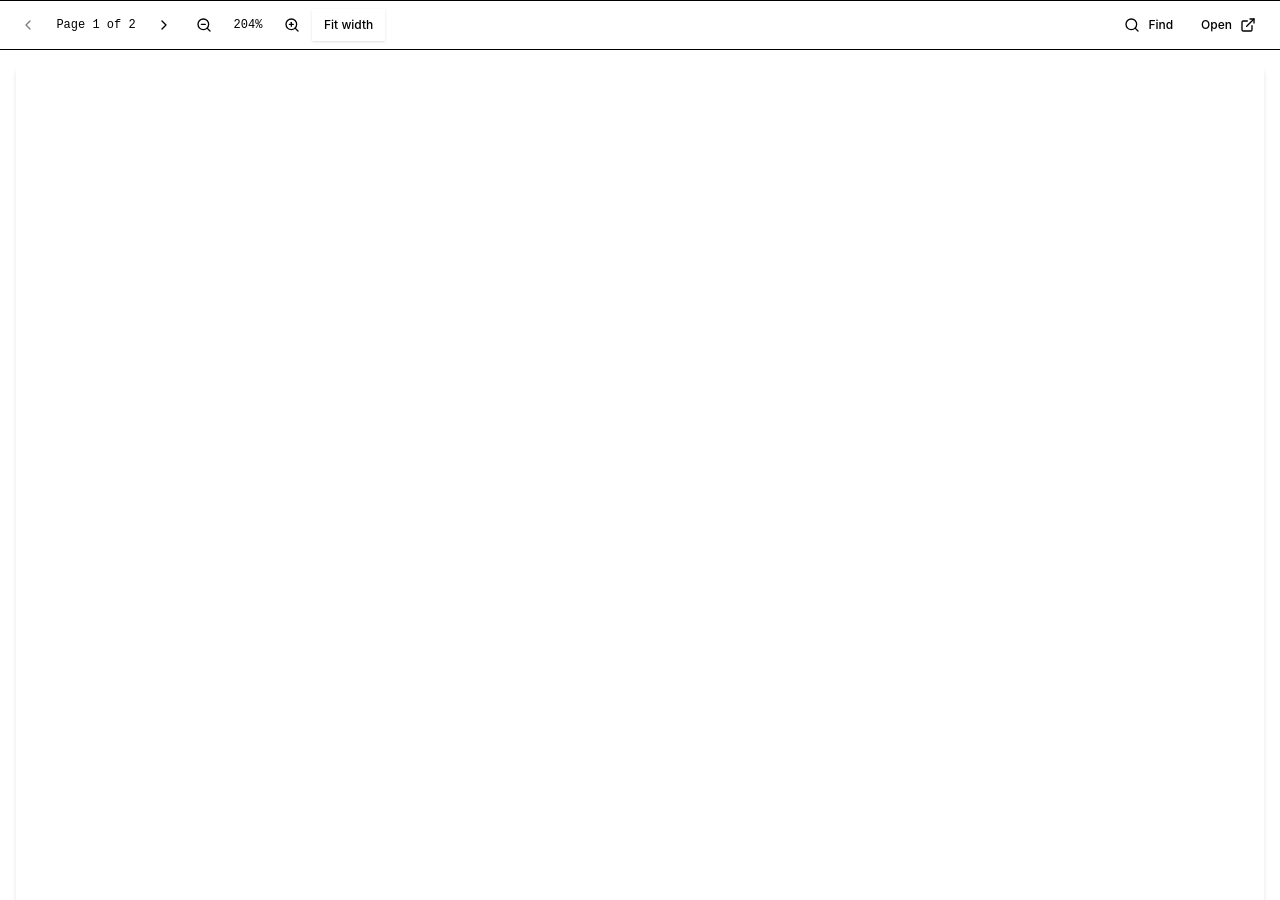
it: finding text › walks the hits and wraps at the end
The width and height of the screenshot is (1280, 900).
Check: the text "Page 1 of 2" is shown, box [56,18,136,32]
Click the button "Find".
click(1149, 25)  # box [1112,9,1185,41]
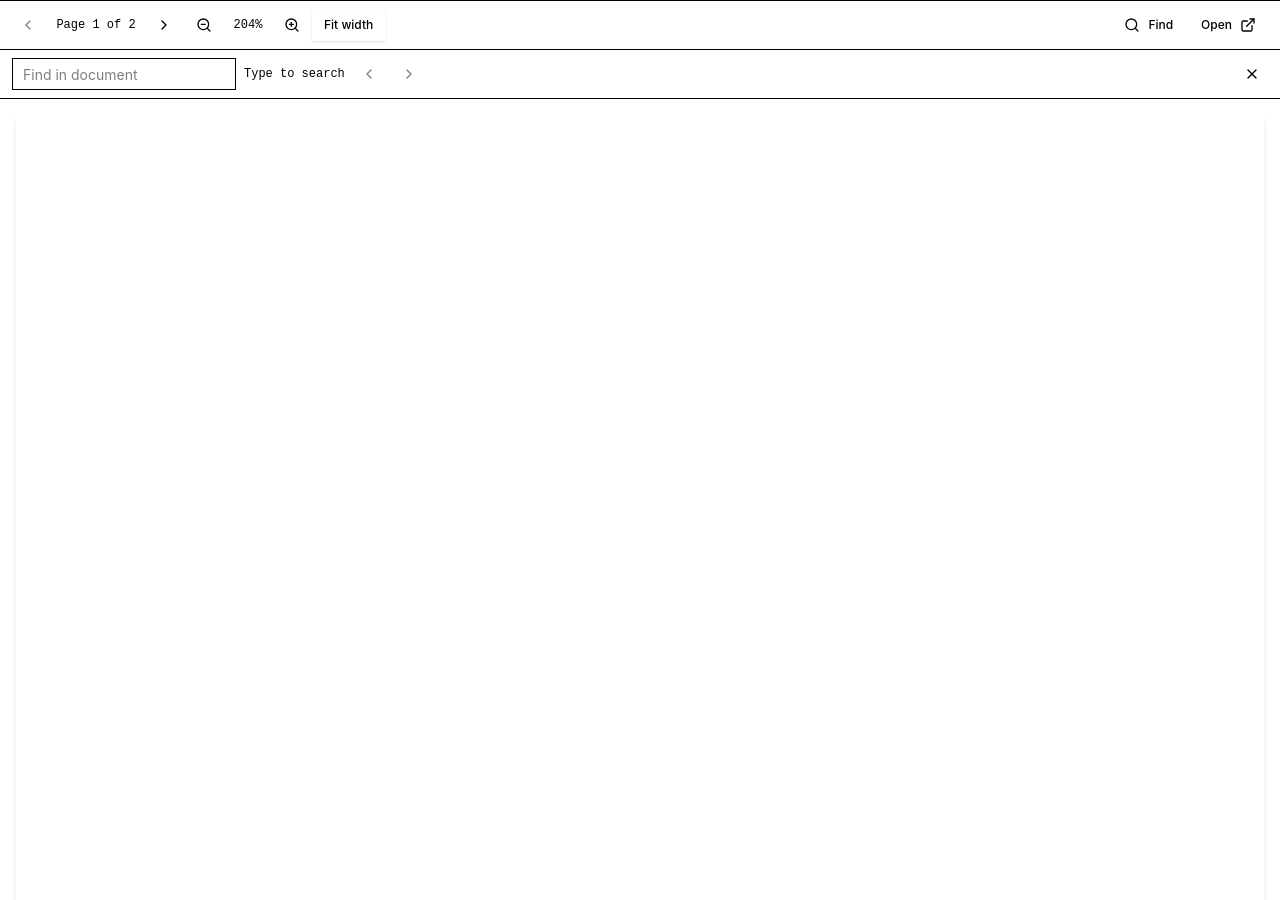
Type "Cruller" into the search field.
click(124, 74); type("Cruller")  # box [12,58,236,90]
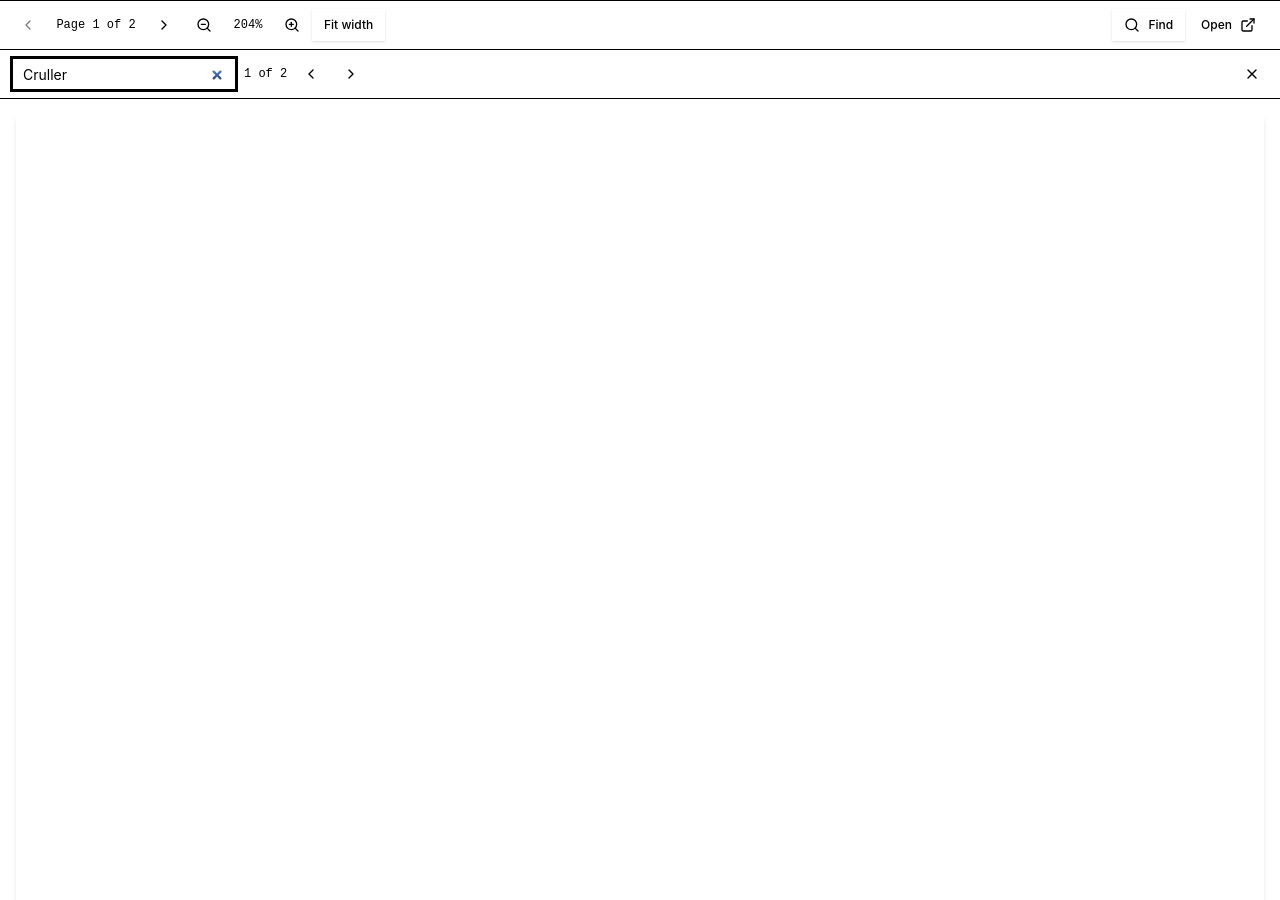
Check: the text "1 of 2" is shown, box [244,66,287,82]
Click the button named "Next match".
click(351, 74)  # box [335,58,367,90]
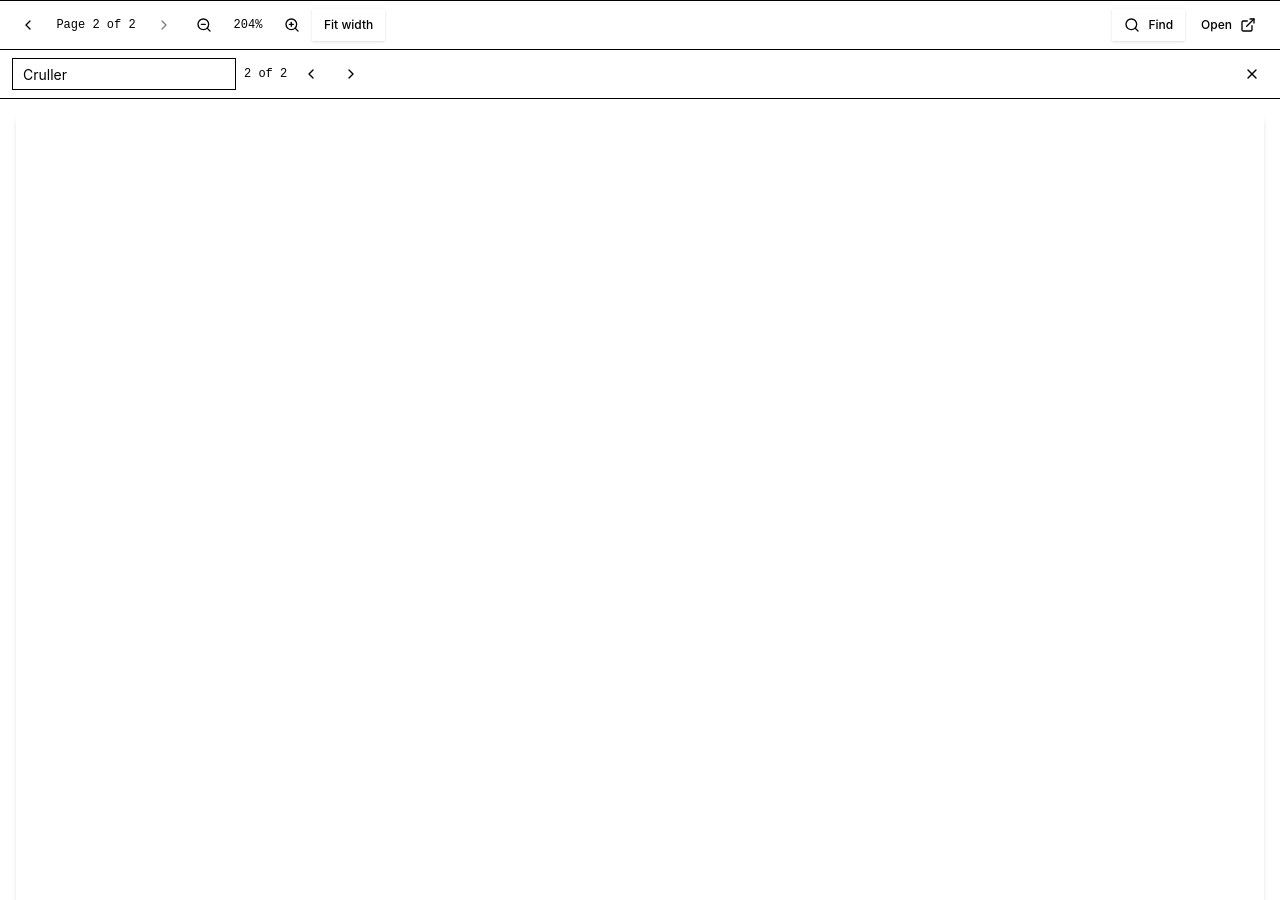
Check: the text "2 of 2" is shown, box [244,66,287,82]
Click the button named "Next match".
click(351, 74)  # box [335,58,367,90]
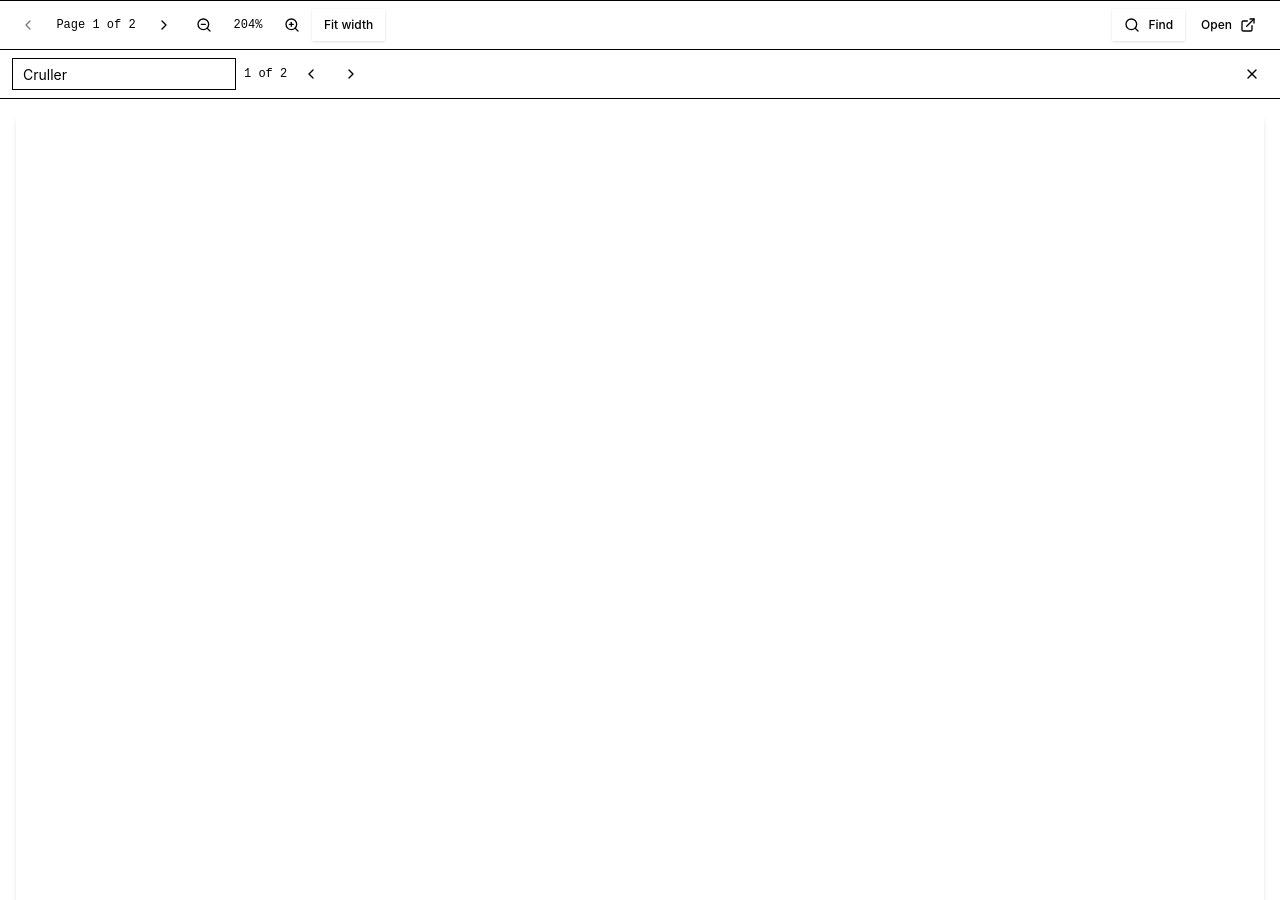
Check: the text "1 of 2" is shown, box [244,66,287,82]
